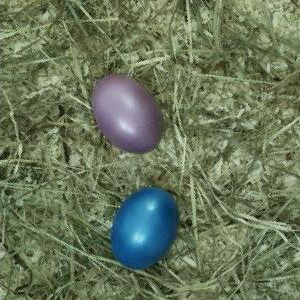egg: (111, 189, 178, 269), (92, 76, 161, 151)
